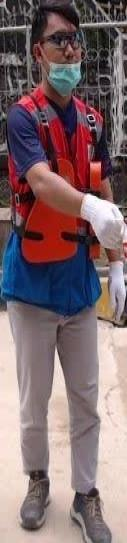boots: (69, 488, 111, 543), (19, 470, 51, 530)
gloves: (80, 192, 124, 254), (106, 260, 126, 322)
hard-hat: (1, 0, 1, 1)
vest: (11, 90, 121, 264)
